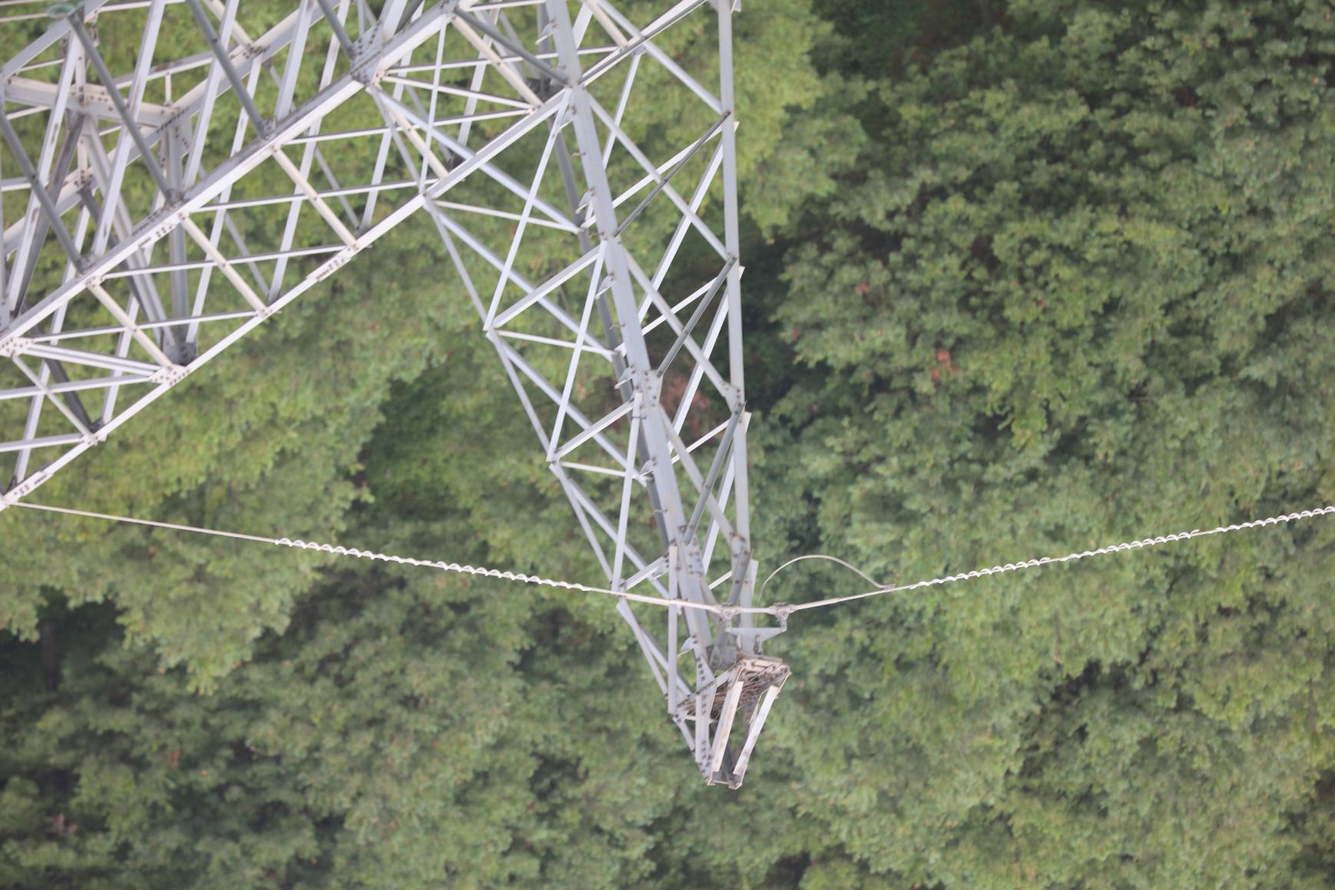nest: (710, 679, 765, 715)
